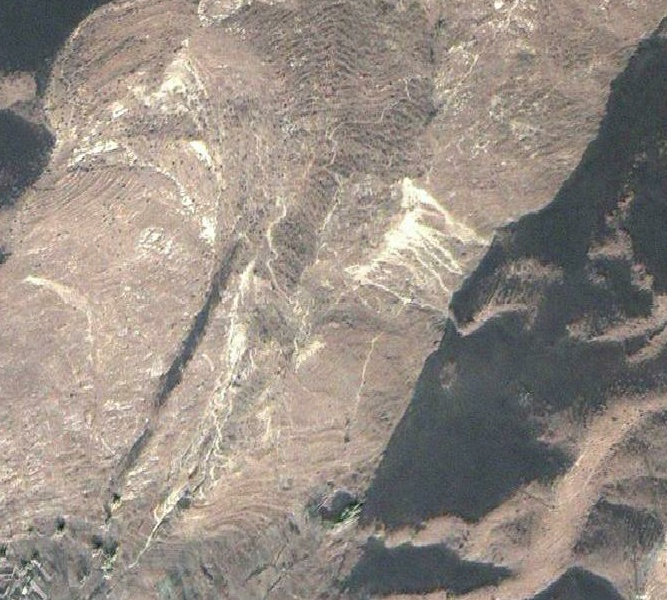slope: (349, 173, 564, 338)
